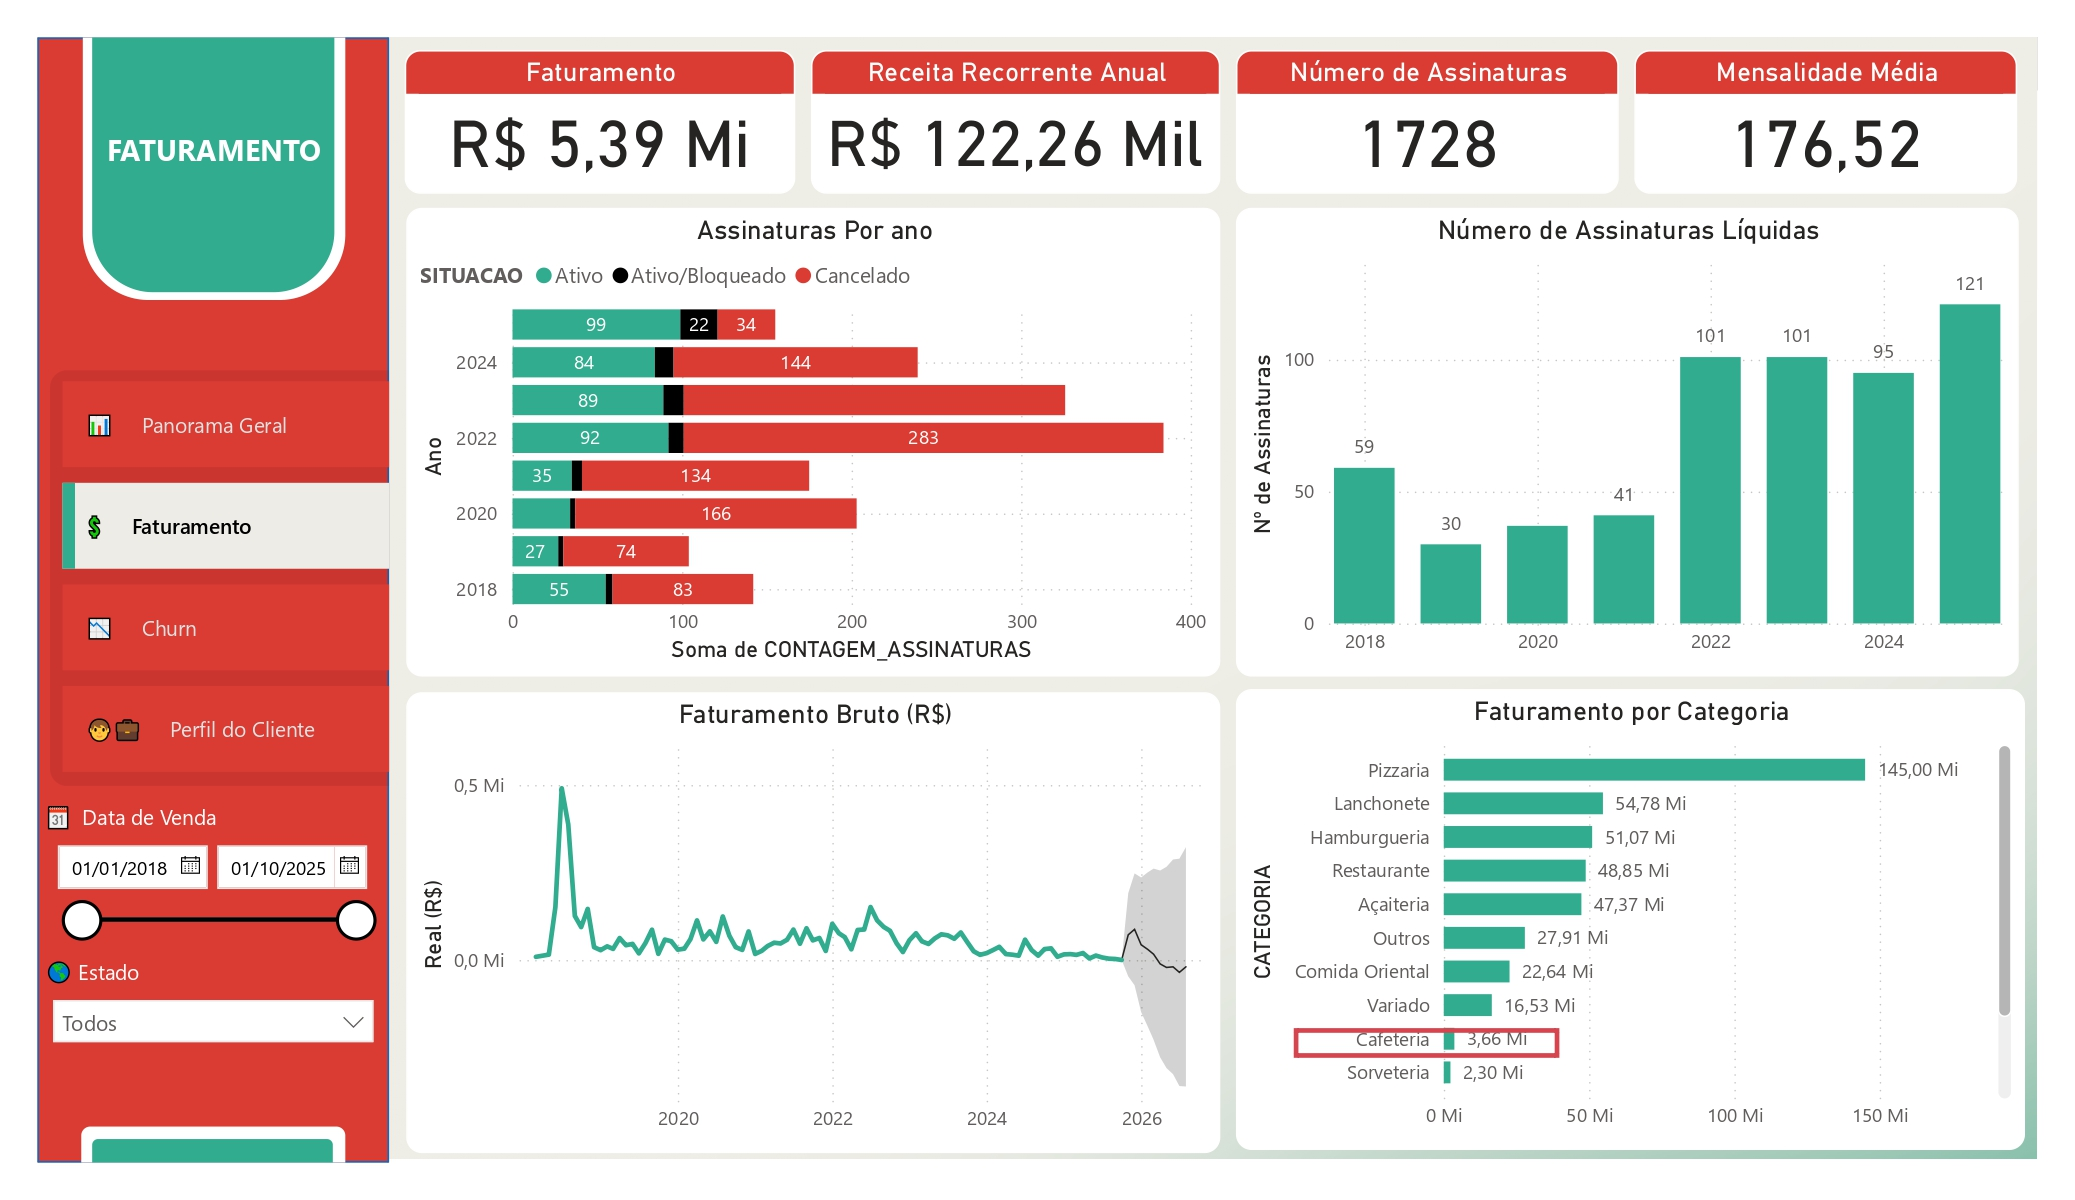

The page's visual inventory and layout, read from the dashboard file:
{"tool":"powerbi","page":{"name":"💲     Faturamento","canvas":[1280,720],"ordinal":1},"visuals":[{"type":"card","title":"Faturamento","fields":{"Values":["BASE_ASSINATURAS.faturamento"]},"box":[235,8,250,92],"z":0},{"type":"card","title":"Número de Assinaturas","fields":{"Values":["BASE_ASSINATURAS.num clientes"]},"box":[767,8,245,92],"z":1000},{"type":"card","title":"Mensalidade Média","fields":{"Values":["Avg(BASE_ASSINATURAS.VALOR_MENSALIDADE_ATUAL)"]},"box":[1022,8,245,92],"z":2000},{"type":"lineChart","title":"Faturamento Bruto (R$)","fields":{"Category":["BASE_ASSINATURAS.DATA_VENDA.Variation.Hierarquia de datas.Ano","BASE_ASSINATURAS.DATA_VENDA.Variation.Hierarquia de datas.Mês"],"Y":["Sum(BASE_ASSINATURAS.TOTAL_PAGO)"]},"box":[236,419,521,295],"z":3000},{"type":"barChart","title":"Assinaturas Por ano","fields":{"Category":["SITUACAO_ASSINATURAS_POR_ANO.VENDA_YEAR"],"Y":["Sum(SITUACAO_ASSINATURAS_POR_ANO.CONTAGEM_ASSINATURAS)"],"Series":["SITUACAO_ASSINATURAS_POR_ANO.SITUACAO"]},"box":[236,109,521,300],"z":4000},{"type":"clusteredBarChart","title":"Faturamento por Categoria","fields":{"Category":["BASE_ASSINATURAS.CATEGORIA"],"Y":["Sum(MOVIMENTACAO_CLIENTES.Faturamento)"]},"box":[767,419,505,295],"z":5000},{"type":"clusteredColumnChart","title":"Número de Assinaturas Líquidas","fields":{"Category":["BASE_ASSINATURAS.DATA_VENDA.Variation.Hierarquia de datas.Ano","BASE_ASSINATURAS.DATA_VENDA.Variation.Hierarquia de datas.Trimestre","BASE_ASSINATURAS.DATA_VENDA.Variation.Hierarquia de datas.Mês","BASE_ASSINATURAS.DATA_VENDA.Variation.Hierarquia de datas.Dia"],"Y":["BASE_ASSINATURAS.Assinaturas Ativas"]},"box":[767,109,501,300],"z":6000},{"type":"shape","title":"Background Menus","box":[0,0,225,720],"z":7000},{"type":"shape","box":[28.7,0,168,168],"z":8000},{"type":"shape","box":[7.5,212.5,217.5,266.7],"z":9000},{"type":"pageNavigator","title":"Menu de Navegação","box":[16,220,209,252],"z":10000},{"type":"shape","box":[35,0,155,163],"z":11000},{"type":"slicer","title":"🗓️  Data de Venda","fields":{"Values":["BASE_ASSINATURAS.DATA_VENDA"]},"box":[0,490,225,99.2],"z":12000},{"type":"card","title":"Receita Recorrente Anual","fields":{"Values":["BASE_ASSINATURAS.Receita_recorr_anual"]},"box":[495,8,262,92],"z":13000},{"type":"slicer","title":"🌎 Estado","fields":{"Values":["BASE_ASSINATURAS.UF"]},"box":[0,589.2,225,75.8],"z":14000},{"type":"image","box":[47,8,131,131],"z":15000},{"type":"shape","box":[28,697,169,23],"z":16000},{"type":"shape","box":[35,705,154,15],"z":17000}]}

Visuals, with their boxes on the page's 1280x720 design canvas (x1, y1, x2, y2). These are canvas units, not pixel positions in the 2075x1200 screenshot, which may show the page scaled, cropped or inside an application window:
"Faturamento" card: region(235, 8, 485, 100)
"Número de Assinaturas" card: region(767, 8, 1012, 100)
"Mensalidade Média" card: region(1022, 8, 1267, 100)
"Faturamento Bruto (R$)" lineChart: region(236, 419, 757, 714)
"Assinaturas Por ano" barChart: region(236, 109, 757, 409)
"Faturamento por Categoria" clusteredBarChart: region(767, 419, 1272, 714)
"Número de Assinaturas Líquidas" clusteredColumnChart: region(767, 109, 1268, 409)
"Background Menus" shape: region(0, 0, 225, 720)
shape: region(29, 0, 197, 168)
shape: region(8, 212, 225, 479)
"Menu de Navegação" pageNavigator: region(16, 220, 225, 472)
shape: region(35, 0, 190, 163)
"🗓️  Data de Venda" slicer: region(0, 490, 225, 589)
"Receita Recorrente Anual" card: region(495, 8, 757, 100)
"🌎 Estado" slicer: region(0, 589, 225, 665)
image: region(47, 8, 178, 139)
shape: region(28, 697, 197, 720)
shape: region(35, 705, 189, 720)
